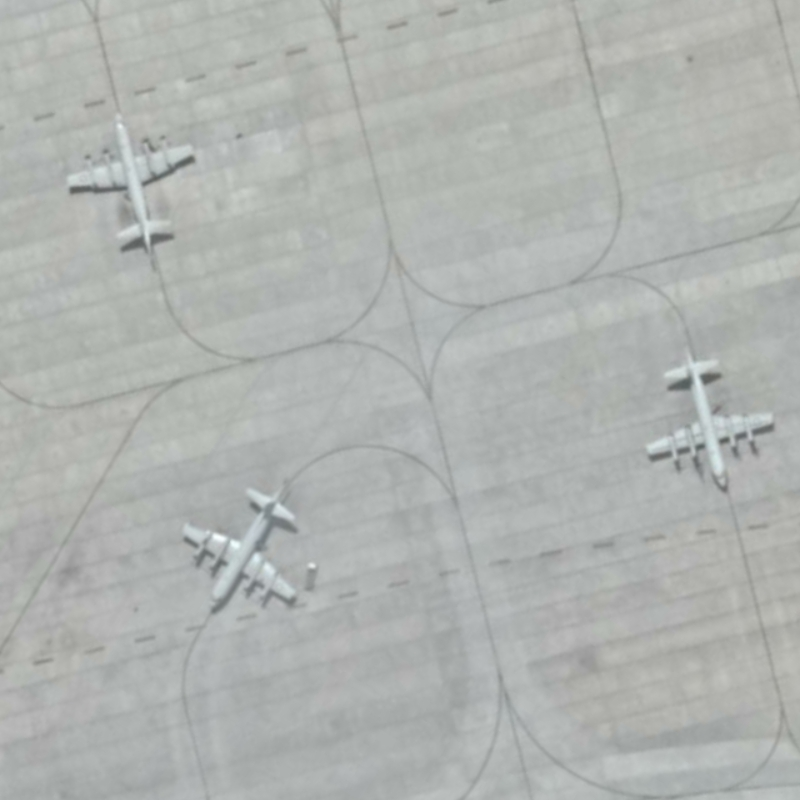A9: (59, 103, 200, 263), (635, 346, 780, 494), (174, 472, 310, 620)
